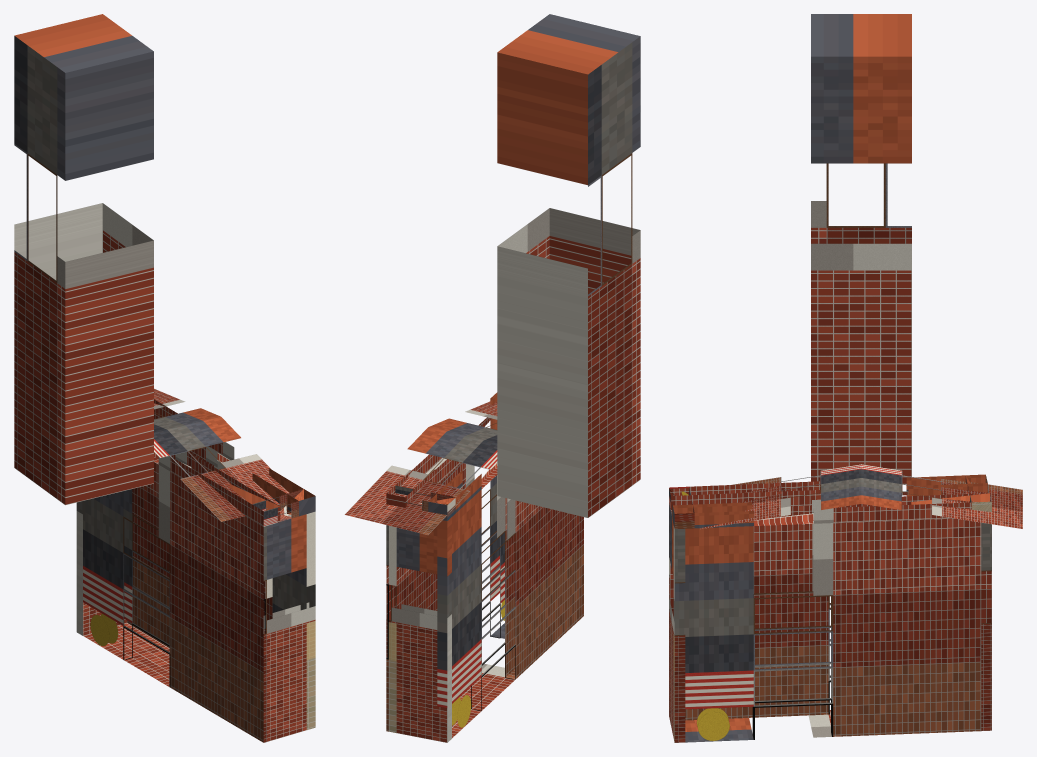
3 views of the same model, side by side, from view 1: azimuth 30°, elevation 25°; view 2: azimuth 150°, elevation 25°; view 3: azimuth 270°, elevation 25° (orthographic). The views are drawn at different scales.
Parts seen in each view (by area): view 1: 1132023212__chimney_0_xb, 1132023212__wall_0_xb, 1132023212__wall_1_xb, 1132023212__wall_2_xb, 1132023212_roof_-1_xb, 1132023212__cornice_0, 1132023212__base, 1132023212__cornice_2, 1132023212__wall_3_xb, 1132023212_roof_1_xb, 1132023212__cornice_1; view 2: 1132023212__chimney_0_xb, 1132023212__wall_0_xb, 1132023212__wall_3_xb, 1132023212_roof_1_xb, 1132023212__wall_2_xb, 1132023212__base, 1132023212__cornice_2, 1132023212_roof_-1_xb, 1132023212__cornice_0, 1132023212__cornice_3; view 3: 1132023212__wall_2_xb, 1132023212__chimney_0_xb, 1132023212__wall_0_xb, 1132023212__cornice_2, 1132023212_roof_1_xb, 1132023212__cornice_0, 1132023212_roof_-1_xb, 1132023212__wall_1_xb, 1132023212__wall_3_xb, 1132023212__base.
Boxes of the visible parts, x1,y1,x2,y2 form: 1132023212__chimney_0_xb: [14, 14, 153, 505]; 1132023212__wall_0_xb: [76, 465, 272, 742]; 1132023212__wall_1_xb: [263, 513, 315, 742]; 1132023212__wall_2_xb: [127, 451, 315, 729]; 1132023212_roof_-1_xb: [154, 417, 289, 521]; 1132023212__cornice_0: [154, 451, 280, 526]; 1132023212__base: [83, 623, 169, 686]; 1132023212__cornice_2: [154, 399, 315, 516]; 1132023212__wall_3_xb: [76, 511, 127, 635]; 1132023212_roof_1_xb: [154, 388, 220, 432]; 1132023212__cornice_1: [252, 489, 303, 526]; 1132023212__chimney_0_xb: [497, 14, 640, 517]; 1132023212__wall_0_xb: [437, 475, 583, 727]; 1132023212__wall_3_xb: [386, 517, 451, 742]; 1132023212_roof_1_xb: [344, 427, 497, 534]; 1132023212__wall_2_xb: [386, 418, 504, 732]; 1132023212__base: [452, 623, 515, 738]; 1132023212__cornice_2: [386, 392, 497, 507]; 1132023212_roof_-1_xb: [428, 401, 497, 443]; 1132023212__cornice_0: [428, 463, 497, 520]; 1132023212__cornice_3: [395, 485, 455, 520]; 1132023212__wall_2_xb: [673, 518, 991, 742]; 1132023212__chimney_0_xb: [811, 14, 911, 484]; 1132023212__wall_0_xb: [669, 495, 908, 720]; 1132023212__cornice_2: [672, 493, 990, 528]; 1132023212_roof_1_xb: [861, 464, 1022, 528]; 1132023212__cornice_0: [669, 474, 987, 511]; 1132023212_roof_-1_xb: [700, 464, 861, 528]; 1132023212__wall_1_xb: [669, 503, 685, 742]; 1132023212__wall_3_xb: [981, 522, 991, 730]; 1132023212__base: [685, 710, 831, 742].
Size of the model in its own units: 0.3075 by 1.05 by 0.5249.
1 material, 1 textured.
